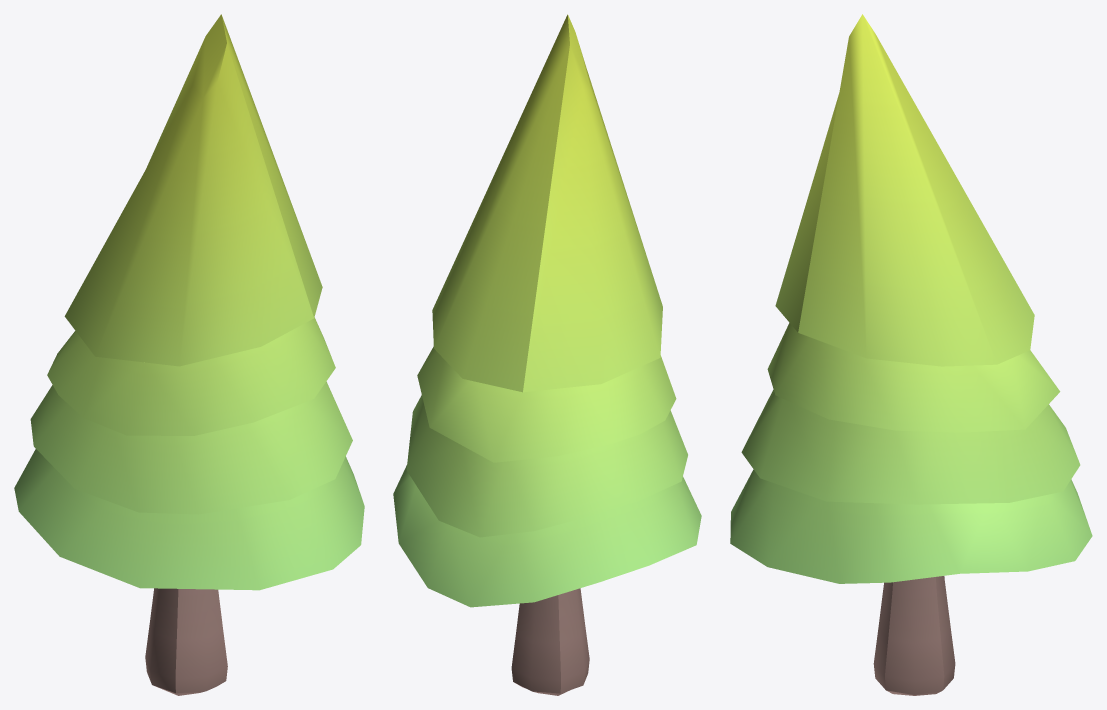
File: Tree02_S_Green.fbx
3 views of the same model, side by side, from view 1: azimuth 30°, elevation 25°; view 2: azimuth 150°, elevation 25°; view 3: azimuth 270°, elevation 25° (orthographic). The views are drawn at different scales.
Parts seen in each view (by area): view 1: Tree02_S_Green; view 2: Tree02_S_Green; view 3: Tree02_S_Green.
Boxes of the visible parts, x1,y1,x2,y2 form: Tree02_S_Green: (14, 14, 364, 695); Tree02_S_Green: (393, 14, 701, 695); Tree02_S_Green: (730, 14, 1092, 695).
Bounding box in the file's own units: 4.13 × 9.16 × 4.45.
